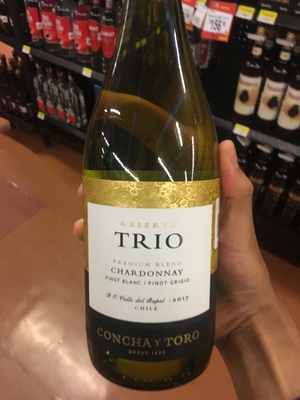trio chardonnay: (84, 14, 223, 386)
